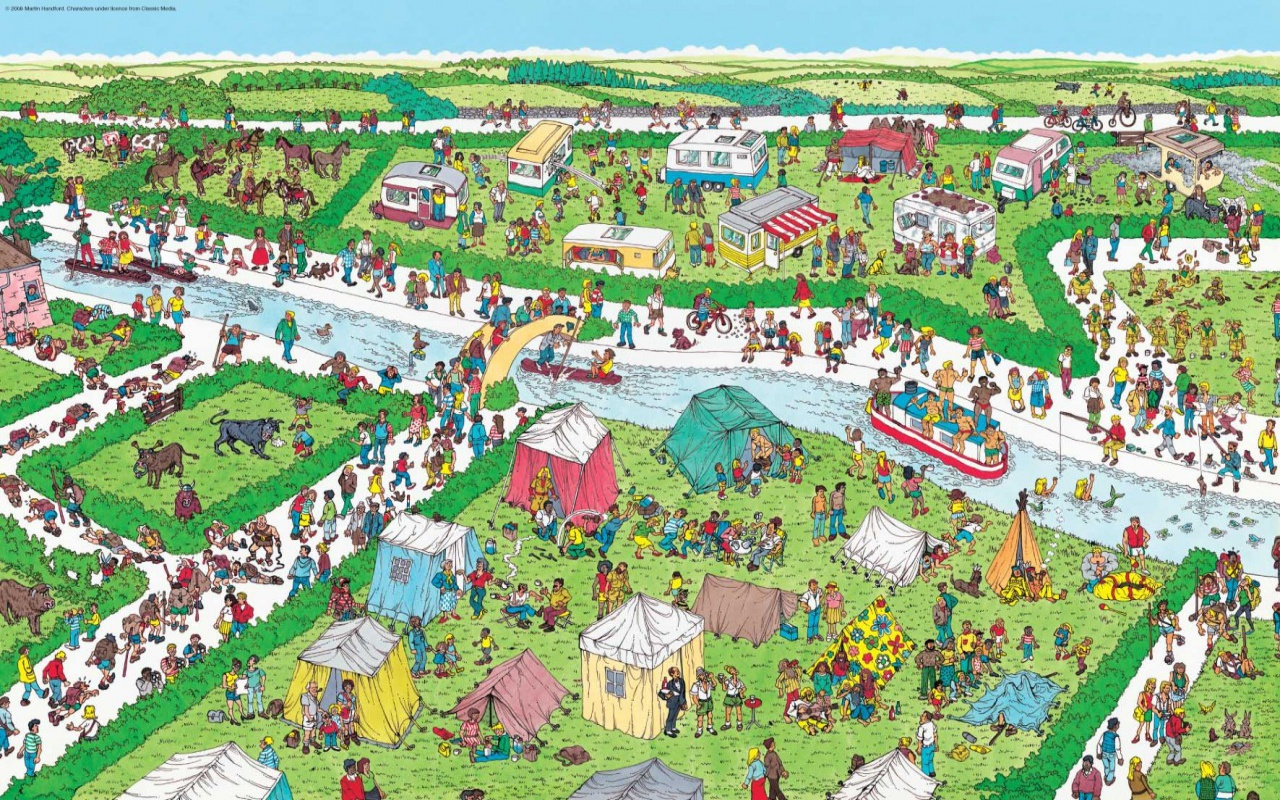waldo: (328, 575, 360, 618)
